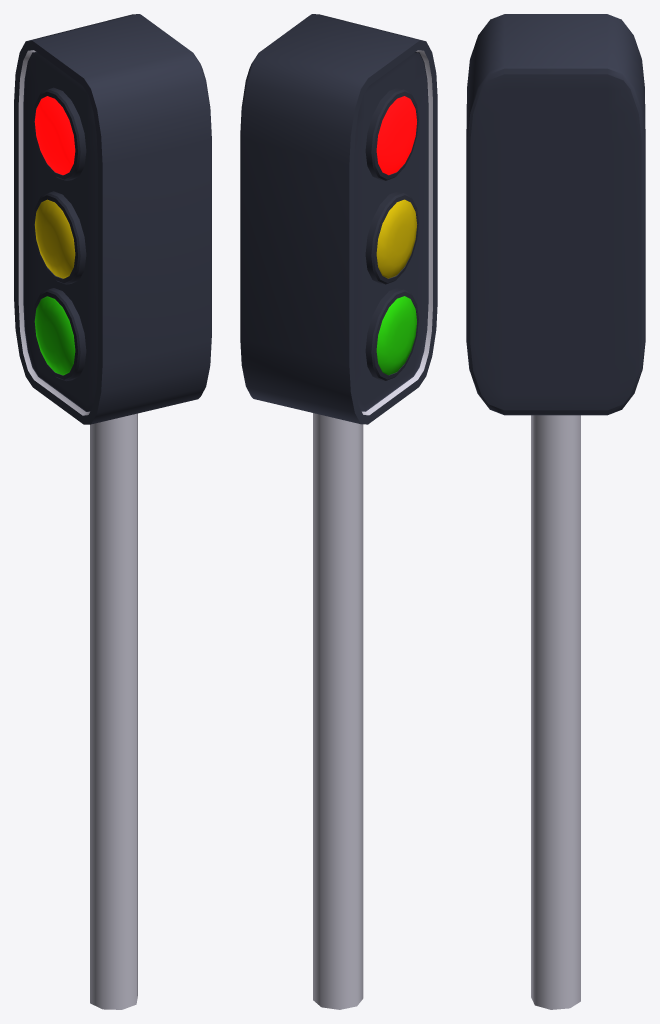
The model's file is semaforo_uvs.fbx.
3 views of the same model, side by side, from view 1: azimuth 30°, elevation 25°; view 2: azimuth 150°, elevation 25°; view 3: azimuth 270°, elevation 25° (orthographic).
Visible parts, largest first — view 1: Cylinder.001; view 2: Cylinder.001; view 3: Cylinder.001.
Part boxes in pixels (left/top/right/bottom): Cylinder.001: left=14, top=14, right=211, bottom=1009; Cylinder.001: left=240, top=14, right=437, bottom=1009; Cylinder.001: left=466, top=14, right=645, bottom=1009.
Size of the model in its own units: 52.14 by 397 by 67.35.
